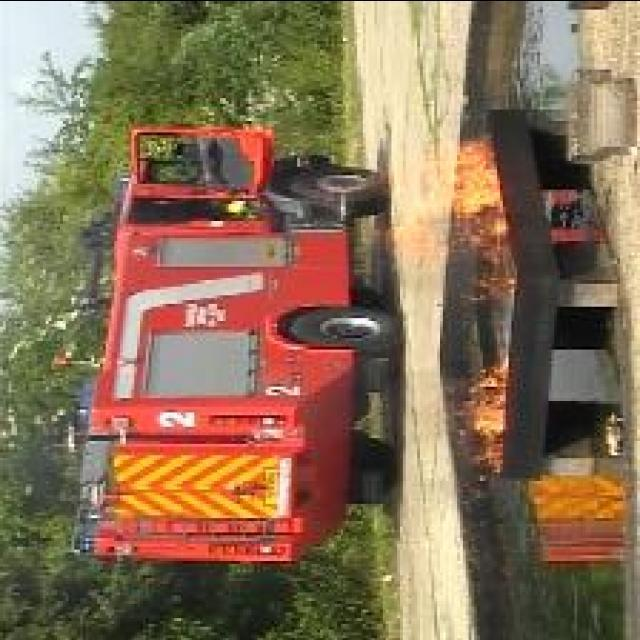Fire: (378, 132, 516, 300), (462, 356, 509, 476)
